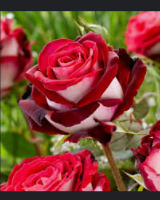RedRose: (20, 31, 147, 136)
